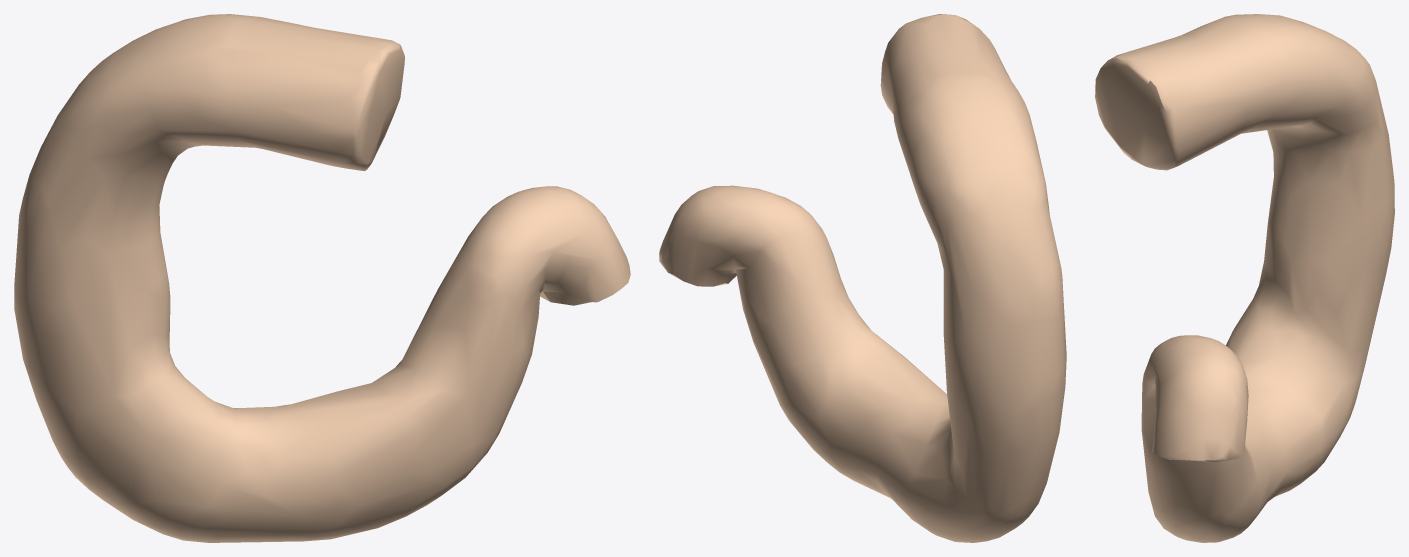
File: duodenum.glb
3 views of the same model, side by side, from view 1: azimuth 30°, elevation 25°; view 2: azimuth 150°, elevation 25°; view 3: azimuth 270°, elevation 25° (orthographic). The views are drawn at different scales.
Parts seen in each view (by area): view 1: duodenum; view 2: duodenum; view 3: duodenum.
Boxes of the visible parts, x1=… form: duodenum: x1=14, y1=14, x2=630, y2=542; duodenum: x1=659, y1=14, x2=1066, y2=542; duodenum: x1=1095, y1=14, x2=1394, y2=542.
Bounding box in the file's own units: 0.098 × 0.0915 × 0.053.
